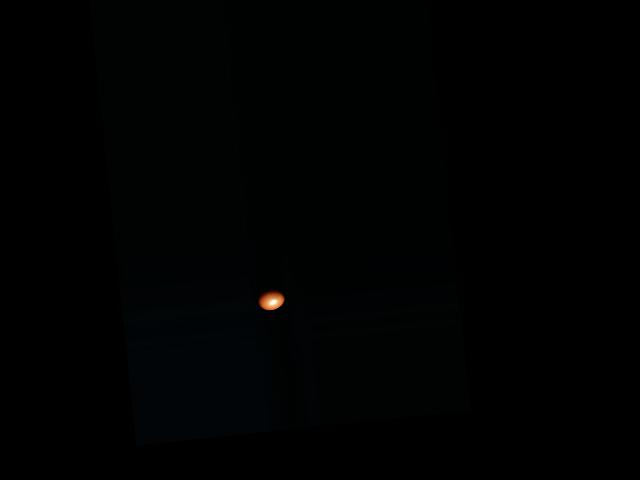egg: (256, 287, 285, 311)
